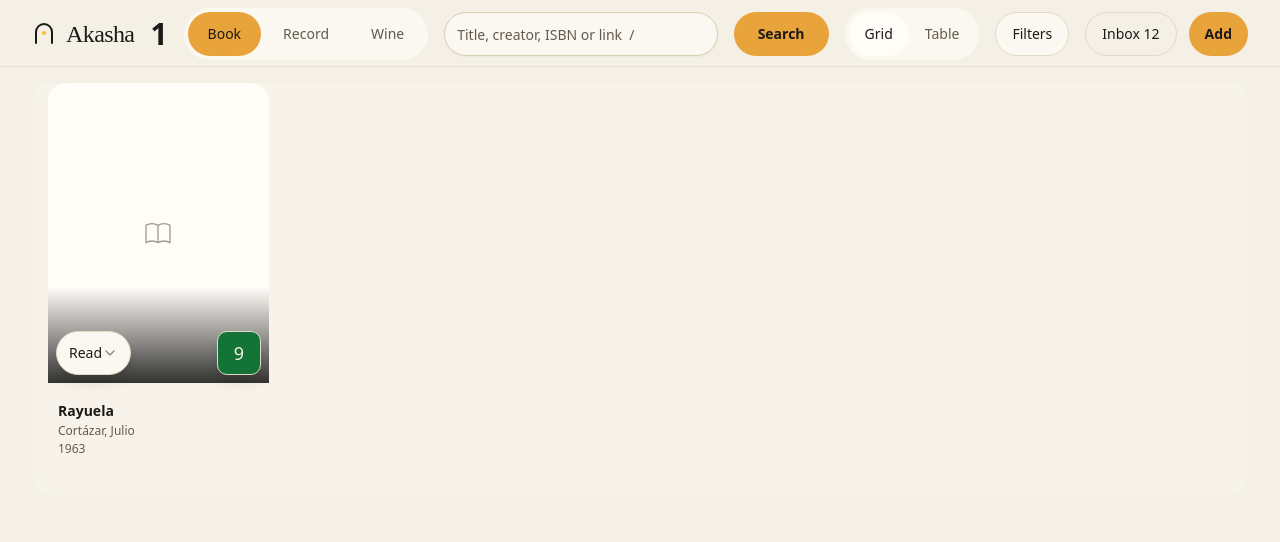
row 3+4: a degraded provider is announced, and a failed search offers the way past it
The width and height of the screenshot is (1280, 542).
Expected: the heading "Rayuela" is shown, 58,401 -> 114,420
Type "Dune Messiah" into the search field.
click(581, 34); type("Dune Messiah")  # box 444,12 -> 718,56
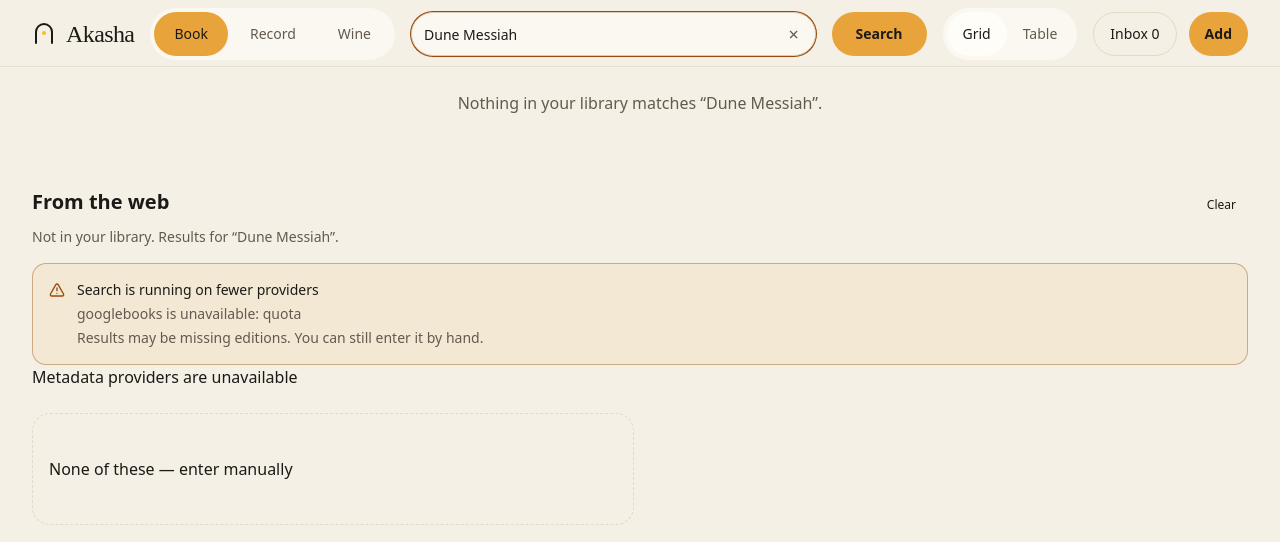
Expected: the message "Metadata providers are unavailable" is shown, 32,366 -> 298,388
Expected: the button "None of these — enter manually" is shown, 32,413 -> 634,525
